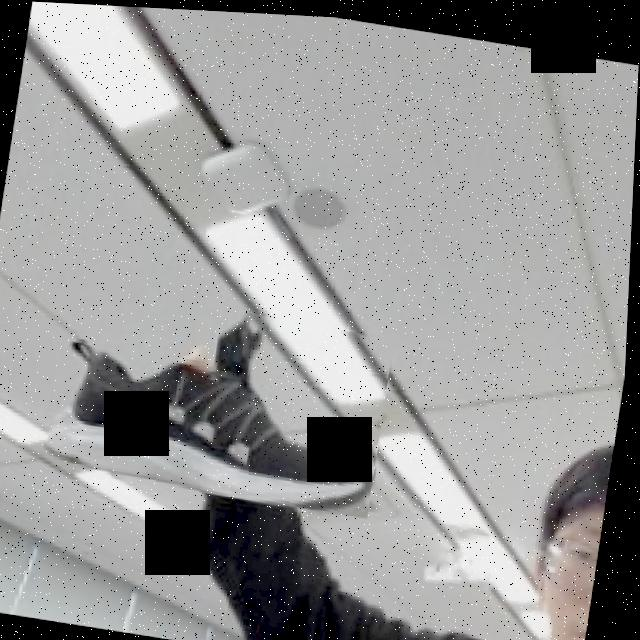shoe: (46, 280, 399, 515)
